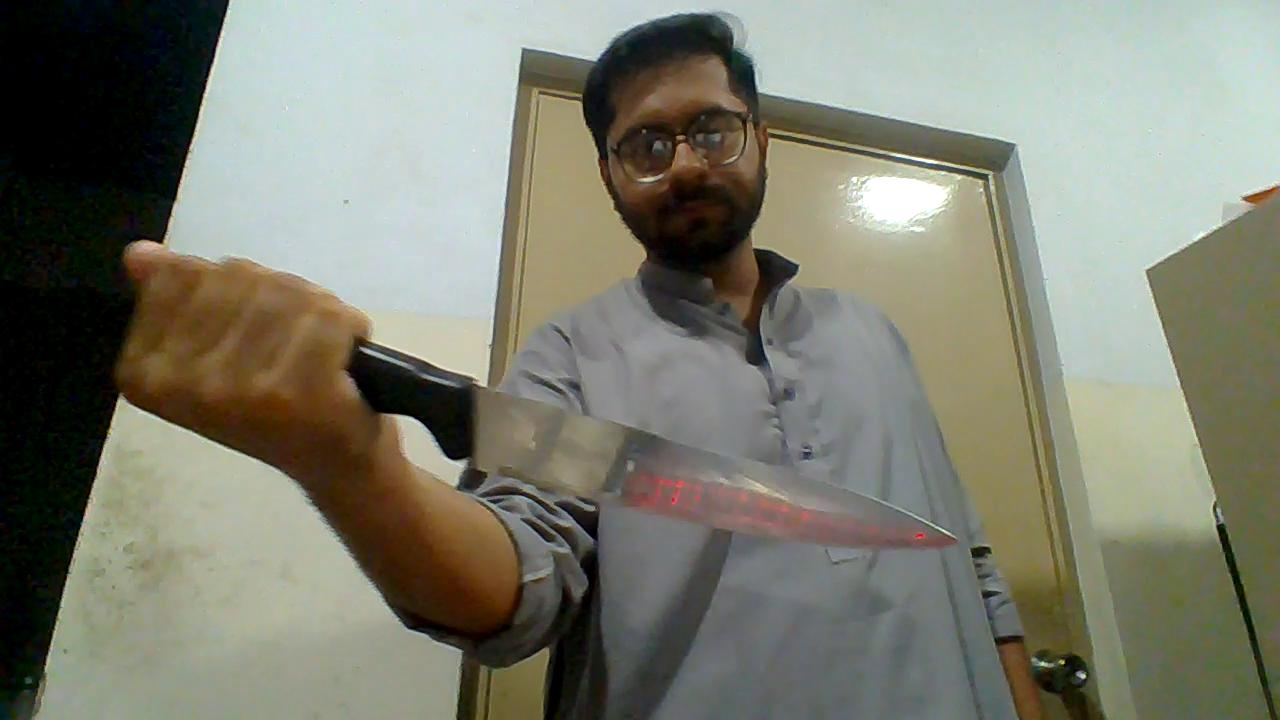criminal: (119, 12, 1045, 720)
weapon: (349, 337, 961, 548)
